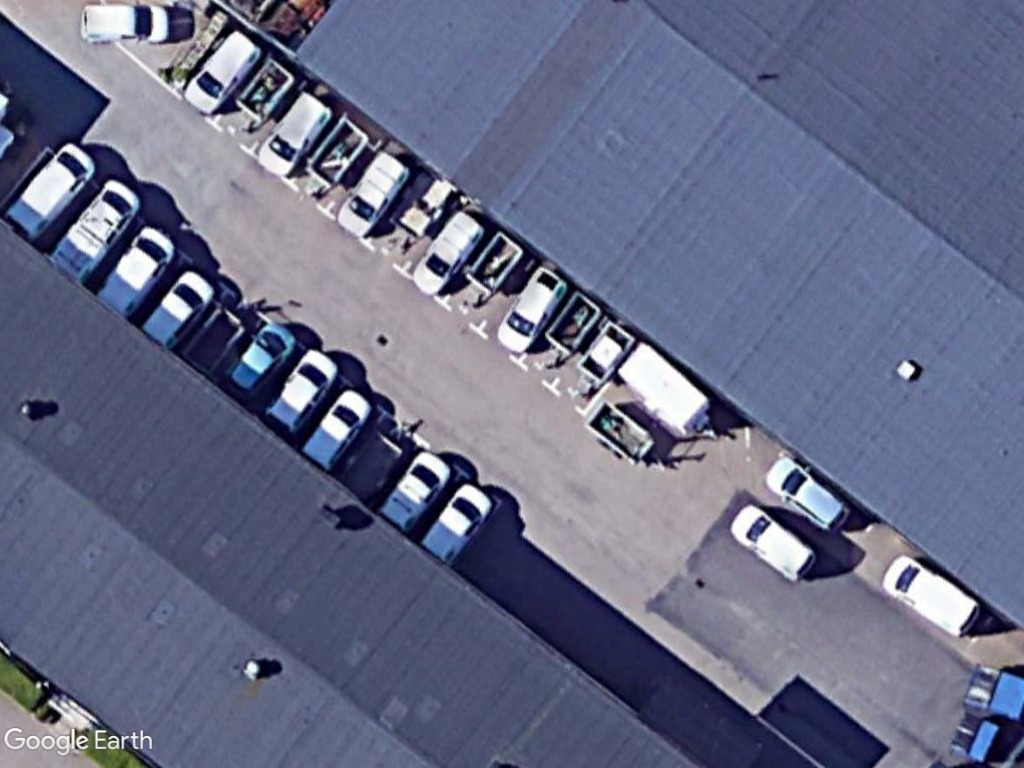car: (729, 499, 818, 587), (262, 339, 340, 436), (766, 456, 853, 536), (220, 314, 297, 401)
van: (3, 136, 97, 245), (50, 176, 141, 284), (883, 549, 984, 639), (245, 85, 335, 184), (179, 25, 264, 120), (408, 204, 483, 306), (333, 144, 409, 243), (98, 225, 177, 318), (492, 265, 570, 356), (299, 382, 375, 472), (378, 447, 455, 532), (419, 478, 494, 565), (140, 267, 216, 351), (78, 0, 178, 48)
